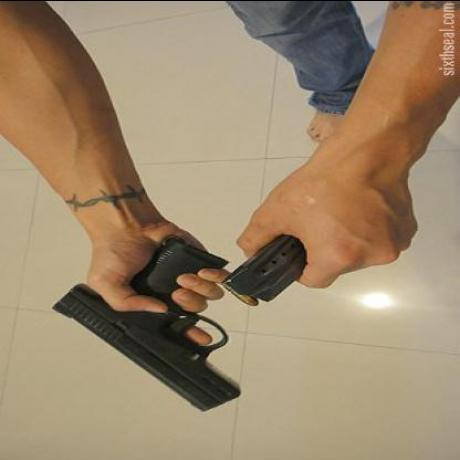1: (0, 0, 241, 351), (234, 0, 460, 292)
weapon: (40, 224, 244, 422)
